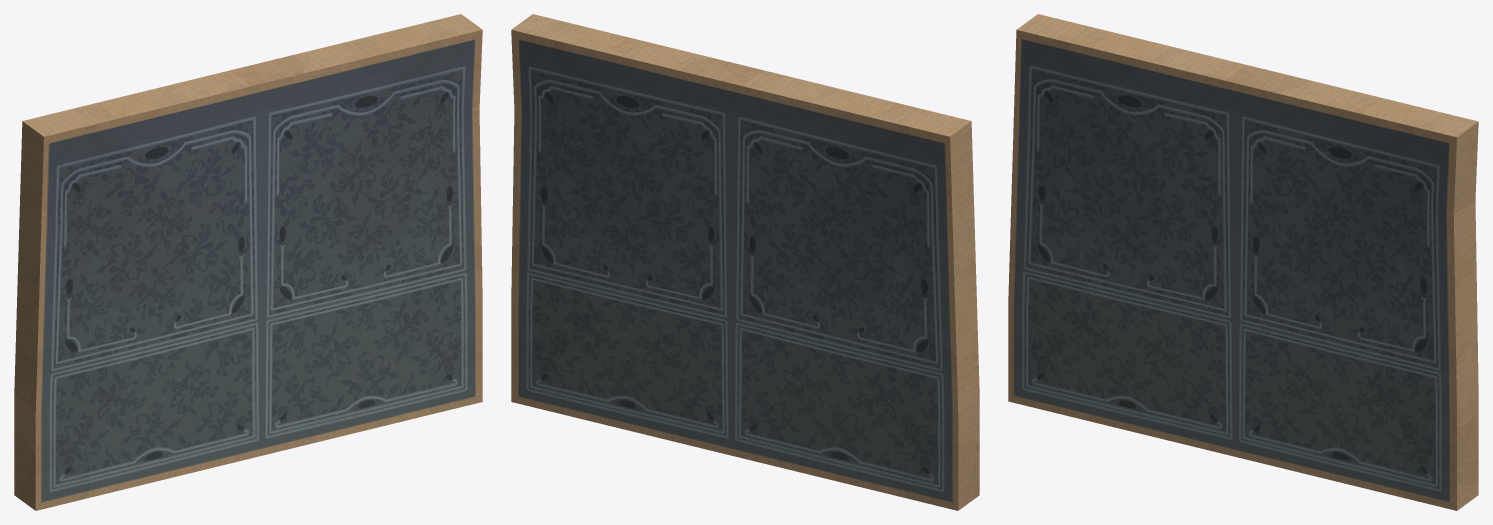
The model's file is SM_Wall_Double.fbx.
3 renders of one model, left to right at view 1: azimuth 30°, elevation 25°; view 2: azimuth 150°, elevation 25°; view 3: azimuth 330°, elevation 25°, orthographic.
Parts seen in each view (by area): view 1: Plane004; view 2: Plane004; view 3: Plane004.
Part boxes in pixels (left/top/right/bottom): Plane004: left=14, top=14, right=482, bottom=510; Plane004: left=511, top=14, right=979, bottom=510; Plane004: left=1008, top=14, right=1478, bottom=510.
Bounding box in the file's own units: 1562 × 1243 × 131.
